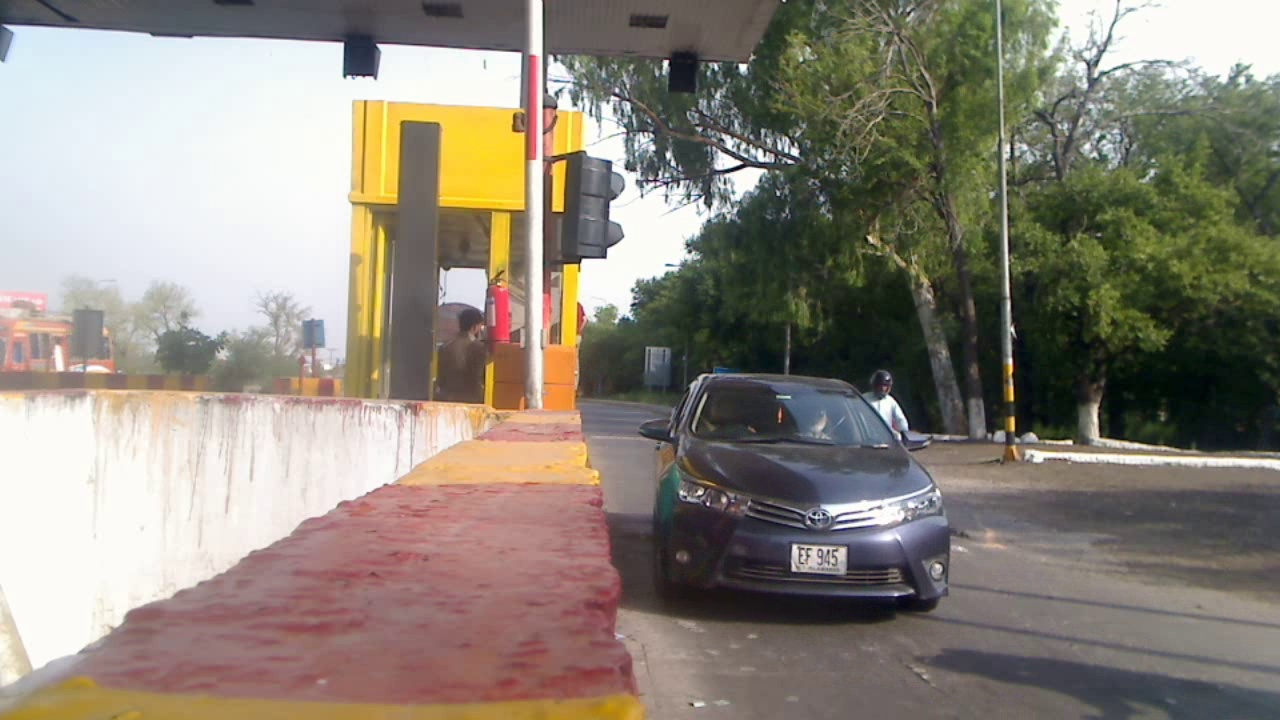Number Plate (Car): (794, 544, 846, 572)
